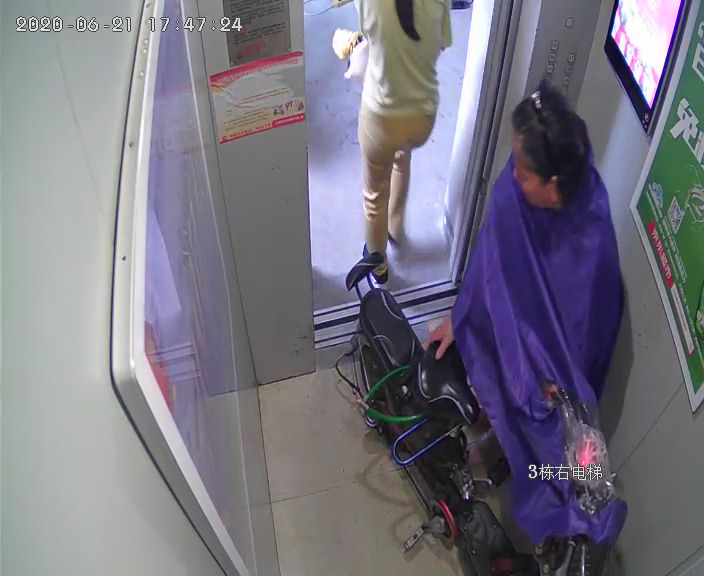Electric-bicycle: (338, 252, 621, 573)
